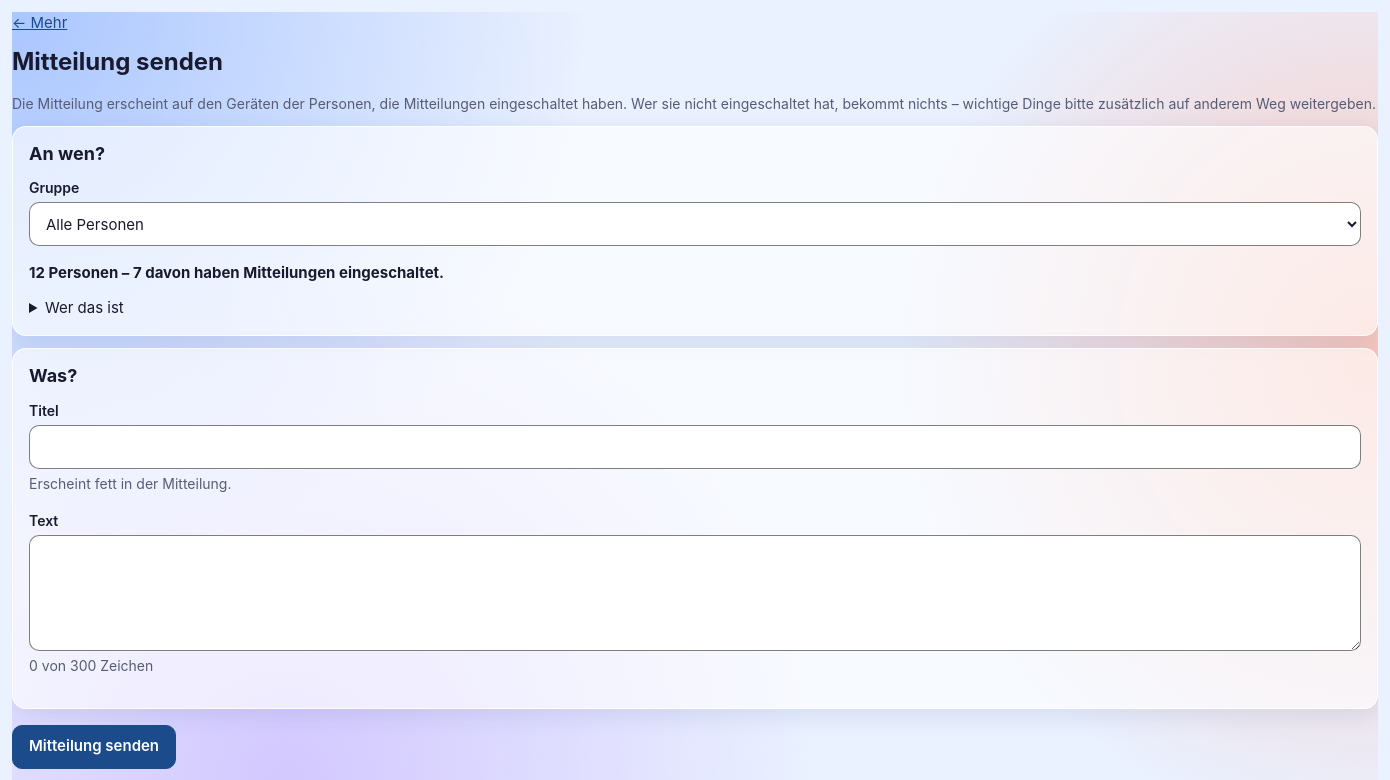
Test: Mitteilung senden (Koordination) › fragt nach, sendet an die gewählte Gruppe und meldet das Ergebnis
Expected: the text "12 Personen – 7 davon haben Mitteilungen eingeschaltet." is shown, [29, 263, 444, 282]
Select "Koordination" in the dropdown labelled "Gruppe" at (695, 224), box [29, 202, 1361, 246]
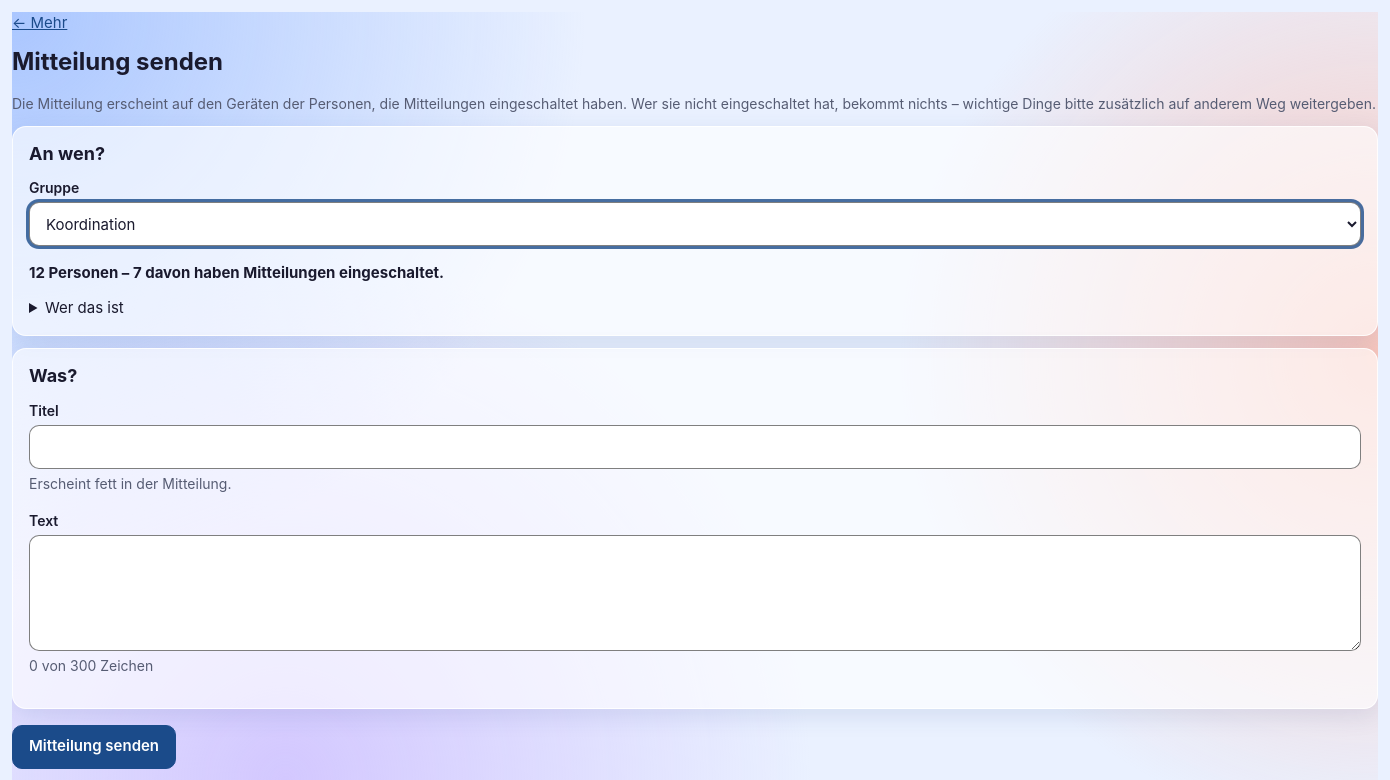
Type "  Wichtig  " into the field labelled "Titel".
click(695, 446); type("  Wichtig  ")  # box [29, 424, 1361, 468]
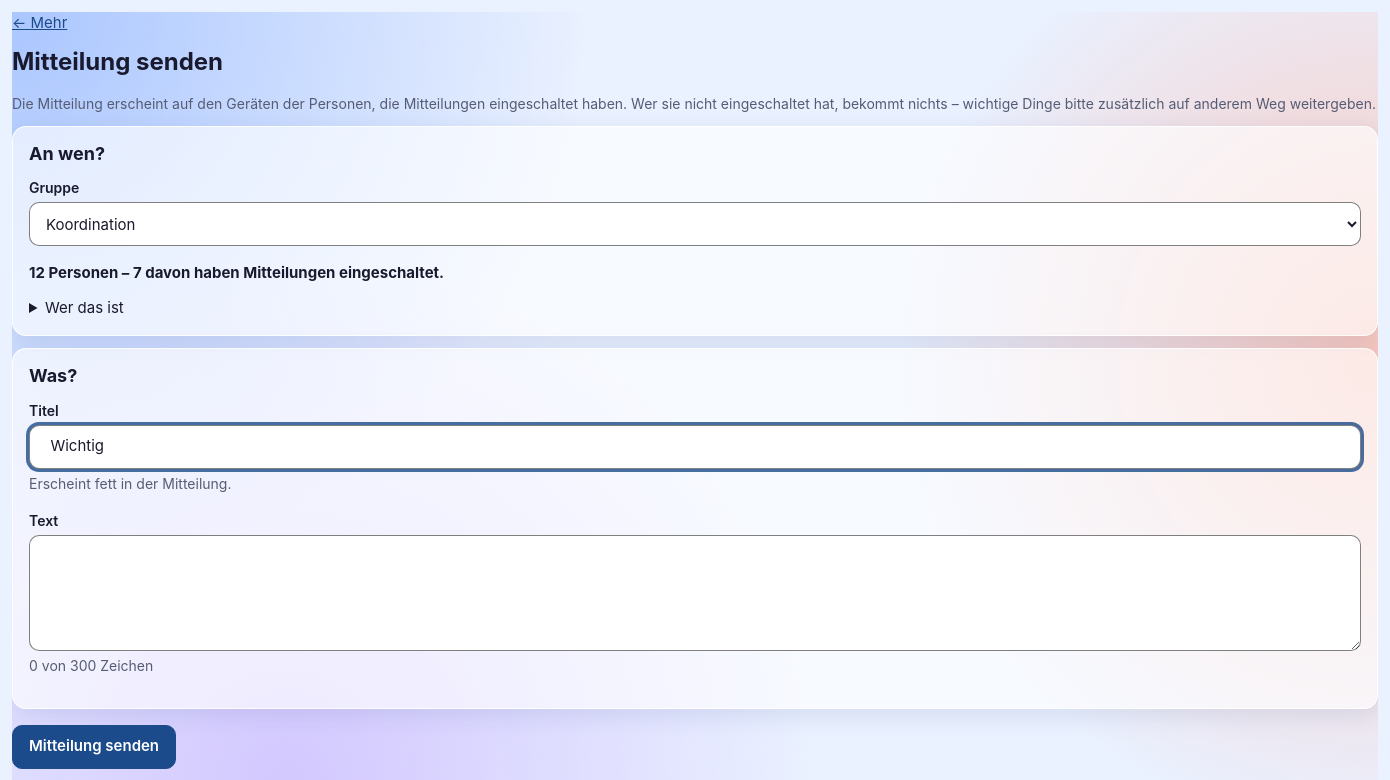
Type "Bitte lesen" into the text box labelled "Text".
click(695, 592); type("Bitte lesen")  # box [29, 534, 1361, 650]
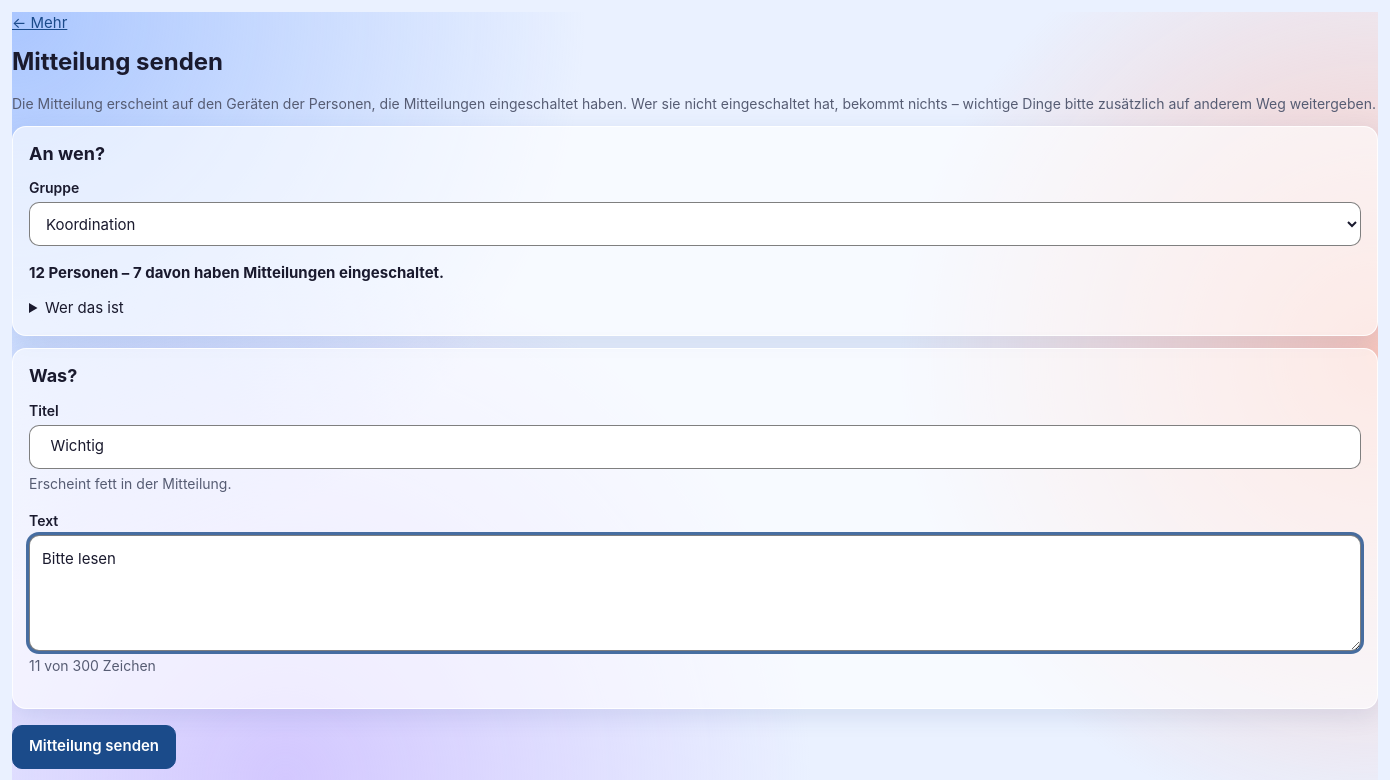
Click the button "Mitteilung senden".
click(94, 746)  # box [12, 724, 176, 768]
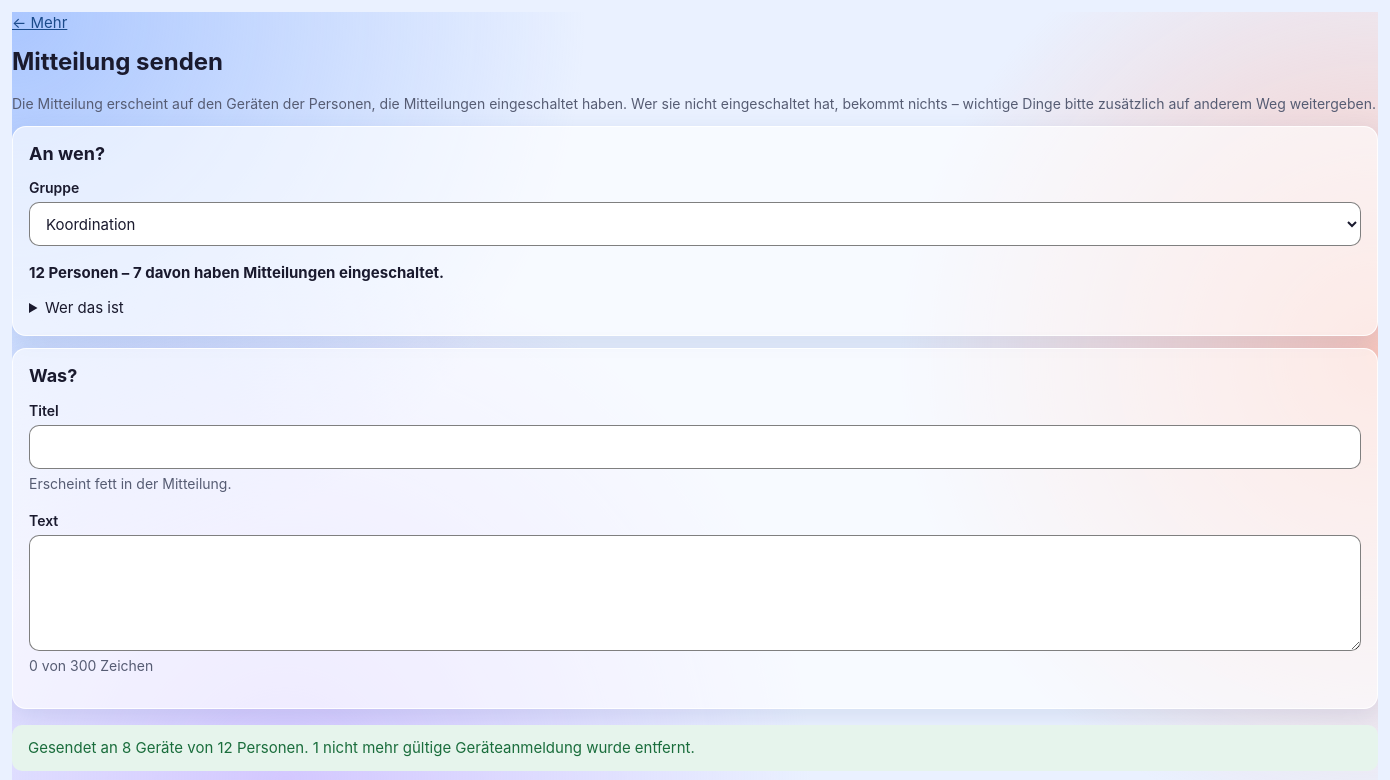
Expected: the text "Gesendet an 8 Geräte von 12 Personen." is shown, [28, 738, 308, 756]
Expected: the text "1 nicht mehr gültige Geräteanmeldung wurde entfernt" is shown, [308, 738, 695, 756]
Expected: the field labelled "Titel" is empty, [29, 424, 1361, 468]
